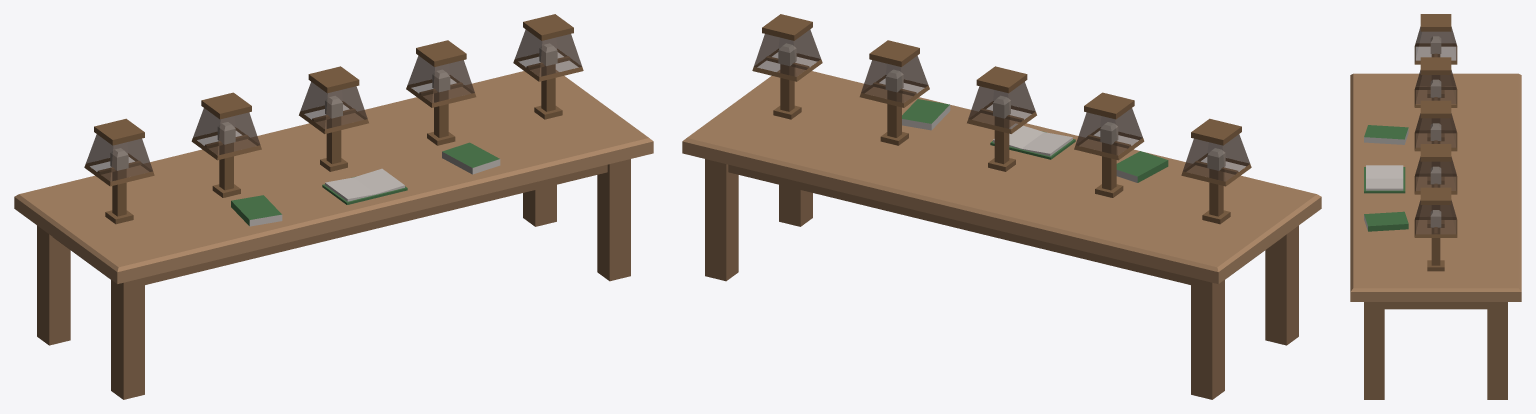
The model's file is desk.glb.
The picture shows the model from 3 angles, left to right: view 1: azimuth 30°, elevation 25°; view 2: azimuth 150°, elevation 25°; view 3: azimuth 270°, elevation 25°; orthographic projection. The views are drawn at different scales.
Visible parts, largest first — view 1: table, shade-glass; view 2: table, shade-glass; view 3: table, shade-glass.
Boxes of the visible parts, box(x1,y1,x2,y2) form: table: box(14, 14, 653, 399); shade-glass: box(86, 29, 581, 181); table: box(682, 14, 1321, 399); shade-glass: box(754, 29, 1249, 181); table: box(1350, 14, 1521, 399); shade-glass: box(1415, 26, 1456, 234).
Size of the model in its own units: 3 by 1.23 by 0.9999.
